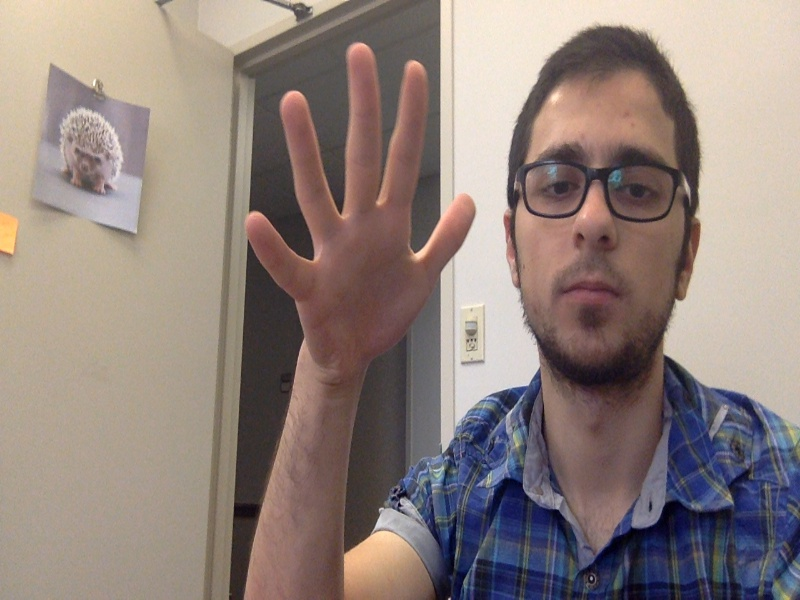5-hand: (241, 40, 479, 379)
